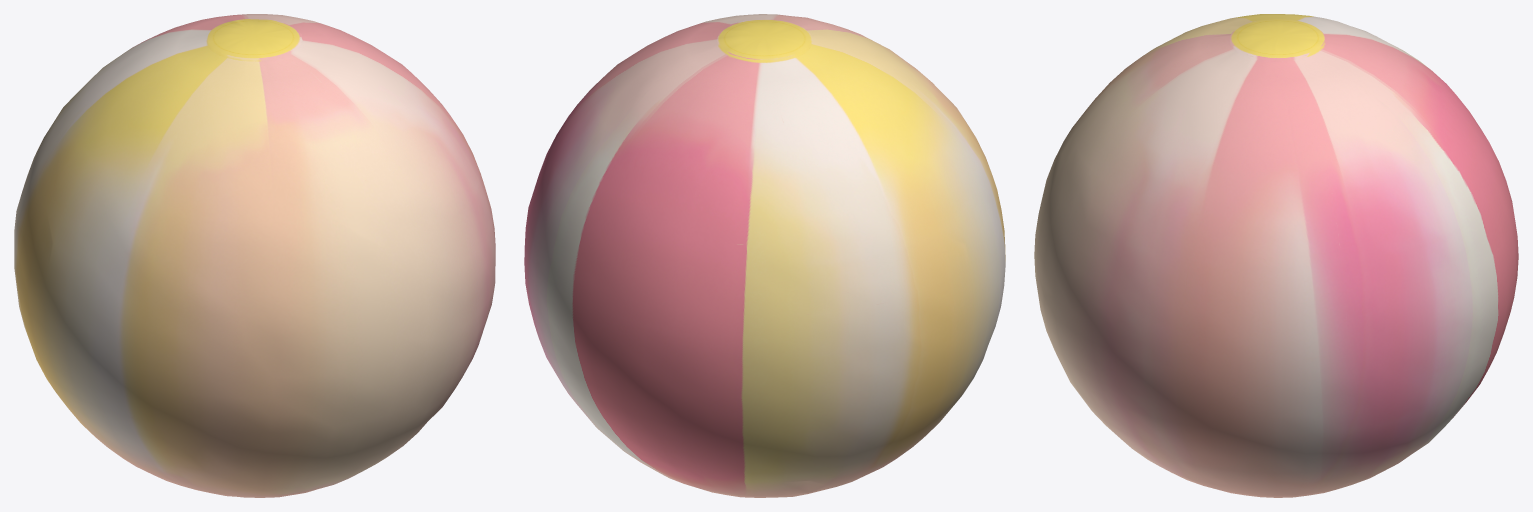
The model's file is beach-ball-v1-plain.glb.
3 views of the same model, side by side, from view 1: azimuth 30°, elevation 25°; view 2: azimuth 150°, elevation 25°; view 3: azimuth 270°, elevation 25° (orthographic).
Size of the model in its own units: 0.9468 by 0.9512 by 0.9478.
Materials: 1 (1 with a texture image).
